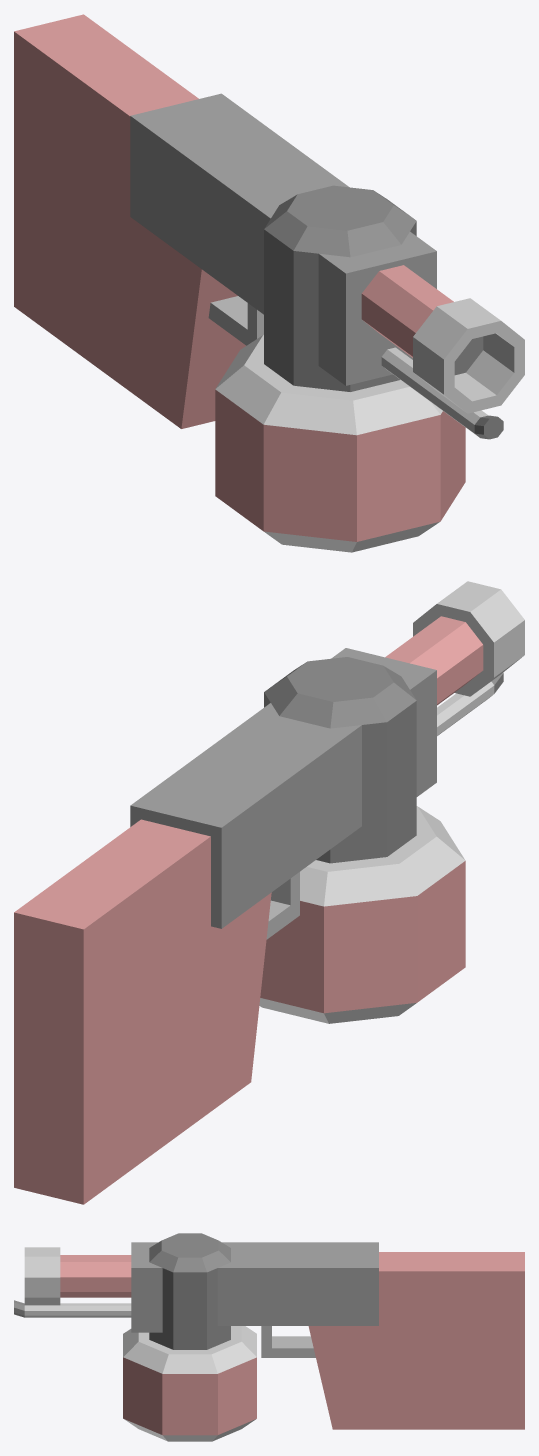
File: flamethrower.glb
The picture shows the model from 3 angles, top to bottom: view 1: azimuth 30°, elevation 25°; view 2: azimuth 150°, elevation 25°; view 3: azimuth 270°, elevation 25°; orthographic projection. The views are drawn at different scales.
Visible parts, largest first — view 1: Mesh1 Group2 Group1 Model, Mesh2 Group3 Group1 Model; view 2: Mesh1 Group2 Group1 Model, Mesh2 Group3 Group1 Model; view 3: Mesh1 Group2 Group1 Model, Mesh2 Group3 Group1 Model.
Part boxes in pixels (x1,y1,x2,y2): Mesh1 Group2 Group1 Model: [14, 14, 524, 439]; Mesh2 Group3 Group1 Model: [215, 335, 465, 552]; Mesh1 Group2 Group1 Model: [14, 581, 524, 1204]; Mesh2 Group3 Group1 Model: [259, 806, 465, 1023]; Mesh1 Group2 Group1 Model: [14, 1233, 524, 1429]; Mesh2 Group3 Group1 Model: [123, 1326, 256, 1441].
Bounding box in the file's own units: 0.0226 × 0.0324 × 0.0861.
